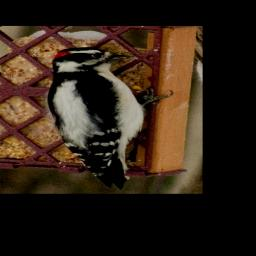Woodpecker: (49, 47, 173, 189)
